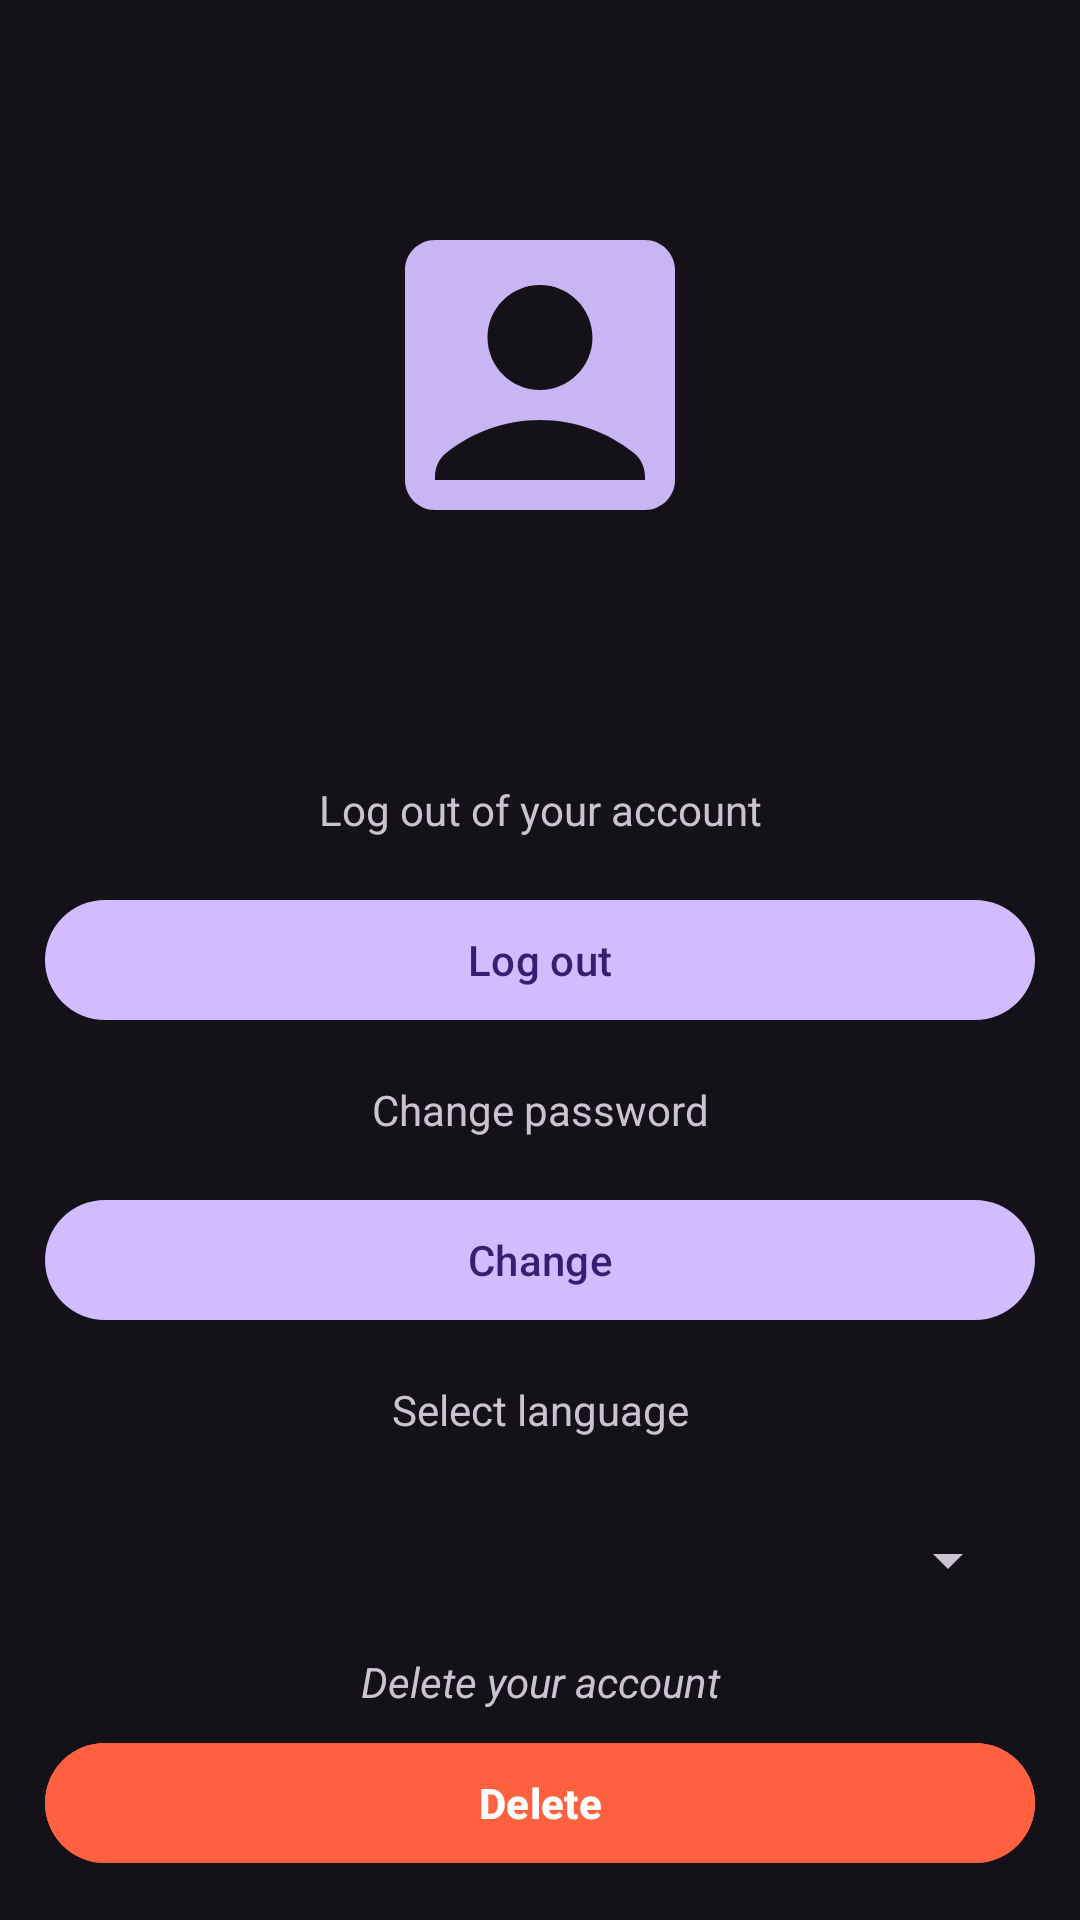

Screen size 1080px×1920px. Icon name, then its box in pixels as box=[x1, y1, x2, y2]:
profile picture: box=[405, 240, 675, 510]
